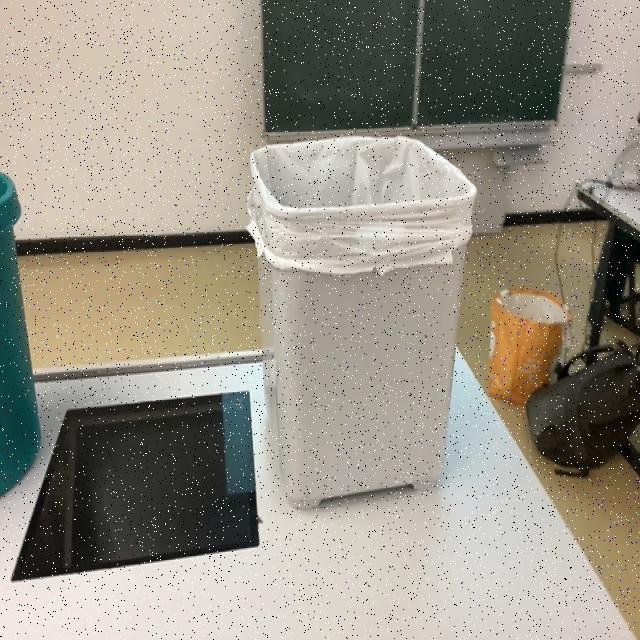garbage container: (230, 118, 490, 518)
